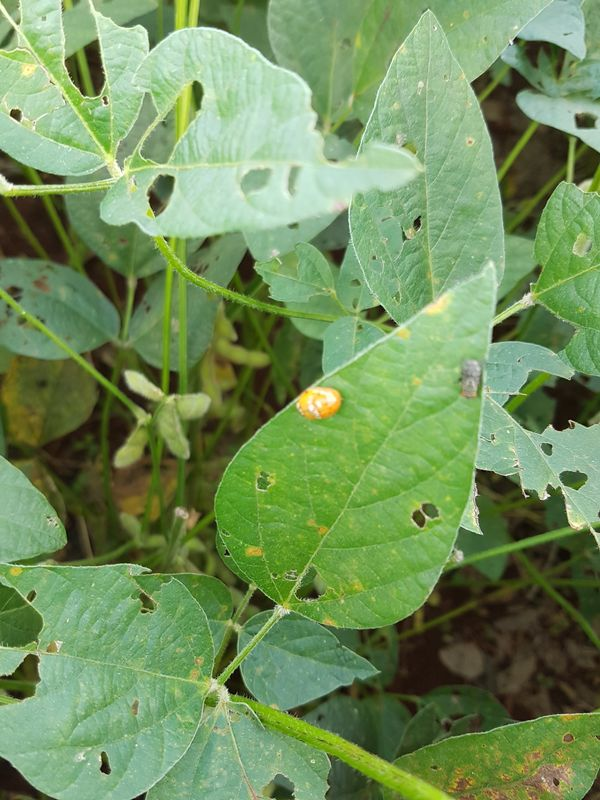Coccinellidae: (287, 380, 348, 433)
